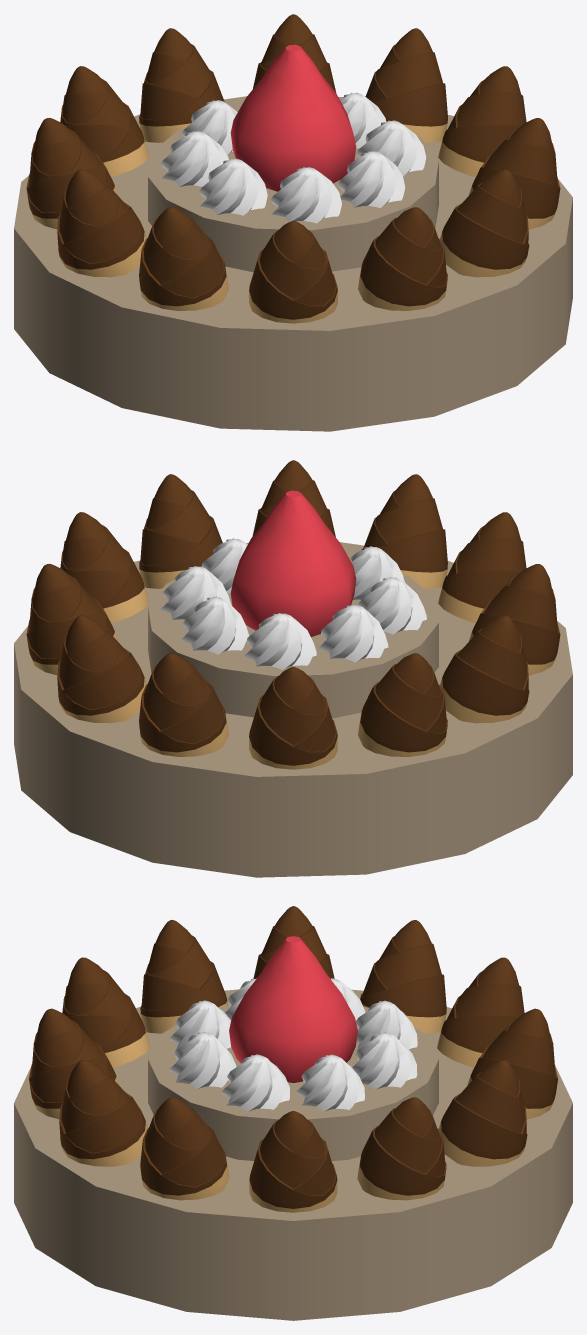
File: tart_takenoko.fbx
3 renders of one model, top to bottom at view 1: azimuth 30°, elevation 25°; view 2: azimuth 150°, elevation 25°; view 3: azimuth 270°, elevation 25°, orthographic.
Visible parts, largest first — view 1: 円.007; view 2: 円.007; view 3: 円.007.
Boxes of the visible parts, x1,y1,x2,y2 form: 円.007: (14, 14, 572, 431); 円.007: (14, 460, 572, 877); 円.007: (14, 906, 572, 1320).
Size of the model in its own units: 78 by 40.53 by 78.
